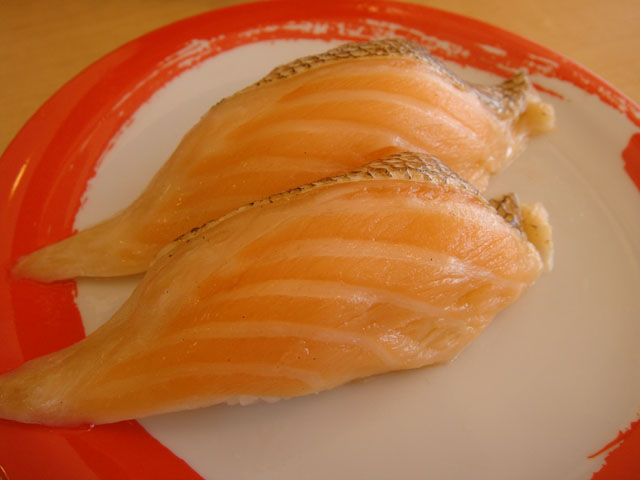salmon: (4, 155, 553, 443)
